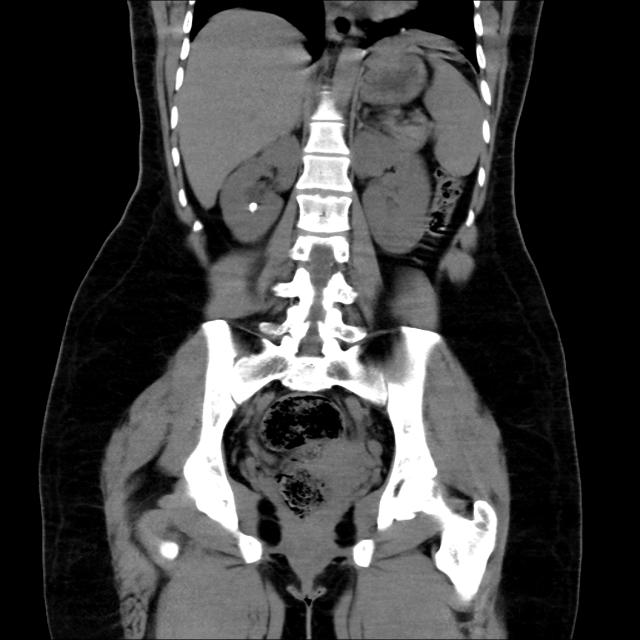kidneystone: (249, 202, 257, 212)
